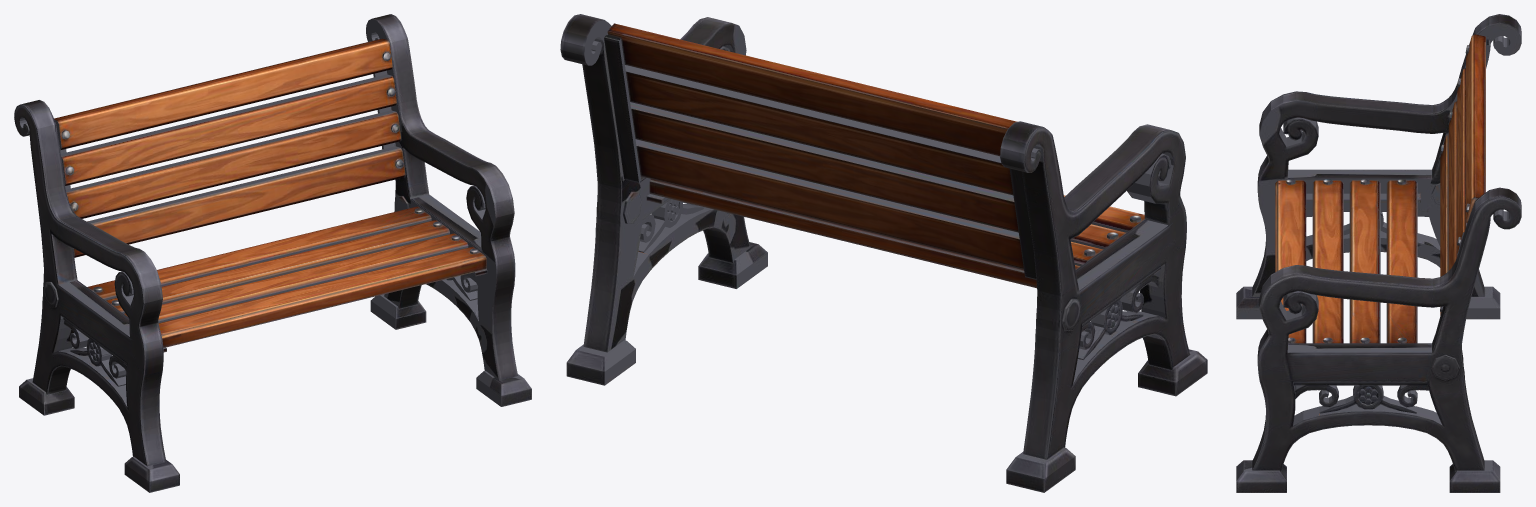
Rendered from houdini_park_bench_sketch.glb.
3 renders of one model, left to right at view 1: azimuth 30°, elevation 25°; view 2: azimuth 150°, elevation 25°; view 3: azimuth 270°, elevation 25°, orthographic. The views are drawn at different scales.
Visible parts, largest first — view 1: LOD0; view 2: LOD0; view 3: LOD0.
Part boxes in pixels (<box>): LOD0: <box>14,14,531,492</box>; LOD0: <box>560,14,1207,492</box>; LOD0: <box>1236,14,1521,492</box>.
Size of what is drawn, in the model's own units: 1.44 by 1.05 by 0.9235.
1 material, 1 textured.
